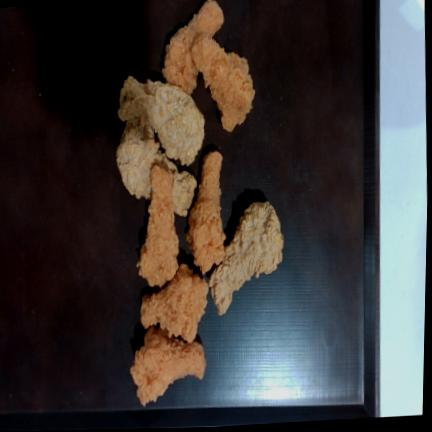chicken: (209, 201, 283, 315), (118, 75, 204, 165), (117, 125, 197, 215), (192, 35, 255, 131), (131, 327, 206, 406), (162, 0, 223, 94), (141, 264, 208, 342), (138, 165, 179, 287), (187, 151, 226, 273)
